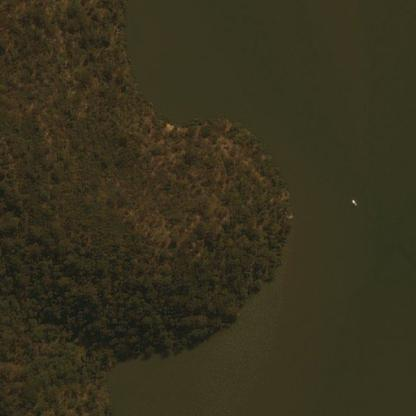ship: (334, 33, 339, 39)
